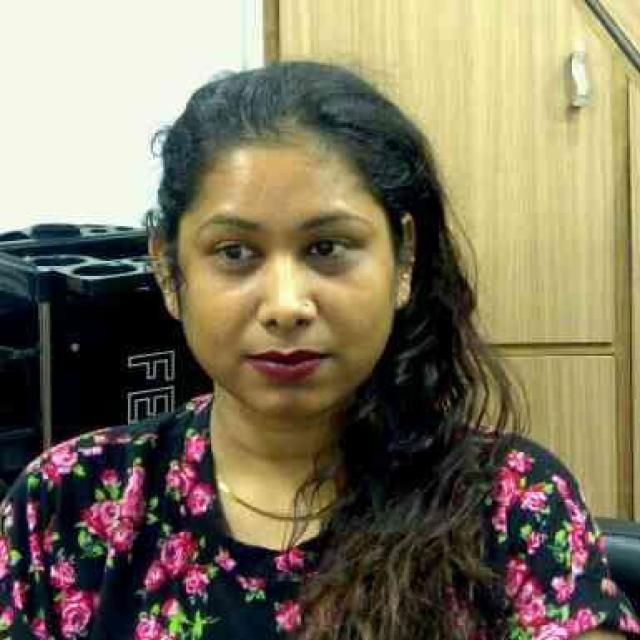puffy_eyes: (301, 249, 355, 274), (212, 251, 262, 276)
